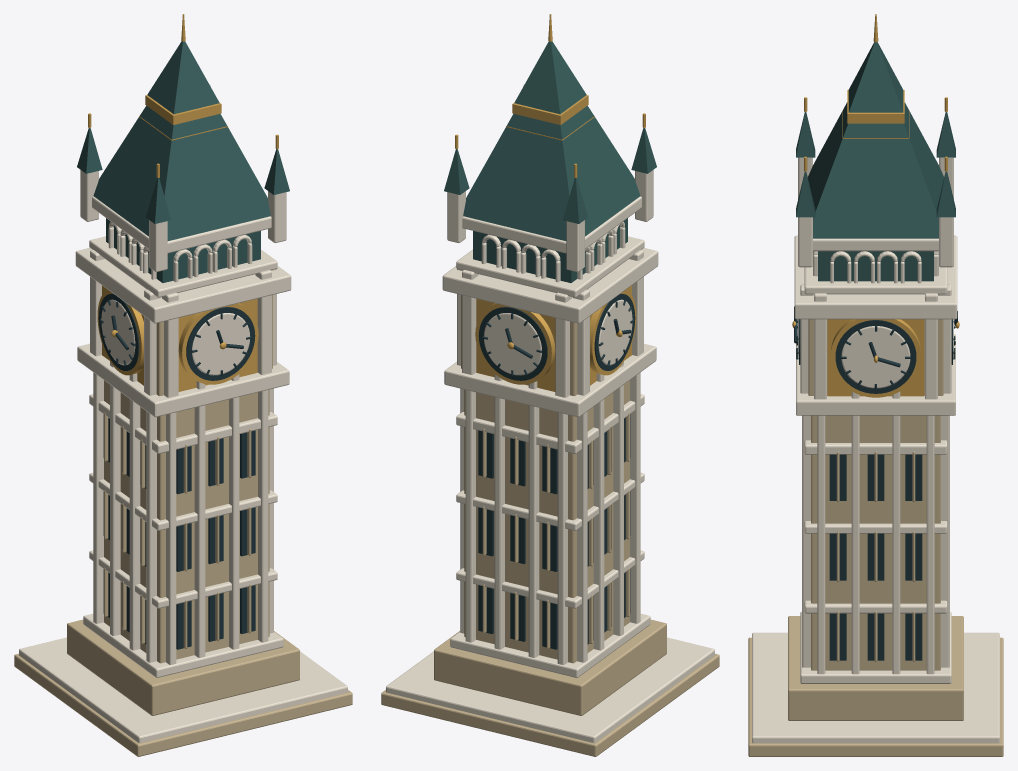
Rendered from clocktower.glb.
The picture shows the model from 3 angles, left to right: view 1: azimuth 30°, elevation 25°; view 2: azimuth 150°, elevation 25°; view 3: azimuth 270°, elevation 25°; orthographic projection. The views are drawn at different scales.
Visible parts, largest first — view 1: clocktower_ivory, clocktower_stone, clocktower_roof, clocktower_ink, clocktower_gold; view 2: clocktower_ivory, clocktower_stone, clocktower_roof, clocktower_ink, clocktower_gold; view 3: clocktower_ivory, clocktower_stone, clocktower_roof, clocktower_ink, clocktower_gold.
Boxes of the visible parts, x1,y1,x2,y2 form: clocktower_ivory: [19, 170, 347, 742]; clocktower_stone: [14, 295, 352, 756]; clocktower_roof: [77, 41, 289, 282]; clocktower_ink: [98, 293, 255, 649]; clocktower_gold: [88, 14, 278, 391]; clocktower_ivory: [386, 170, 714, 742]; clocktower_stone: [381, 295, 719, 756]; clocktower_roof: [444, 41, 656, 282]; clocktower_ink: [478, 293, 635, 649]; clocktower_gold: [455, 14, 645, 391]; clocktower_ivory: [752, 157, 999, 743]; clocktower_stone: [748, 319, 1003, 756]; clocktower_roof: [796, 42, 955, 281]; clocktower_ink: [794, 306, 957, 660]; clocktower_gold: [792, 14, 959, 397].
Bounding box in the file's own units: 2.9 × 8.64 × 2.9.
